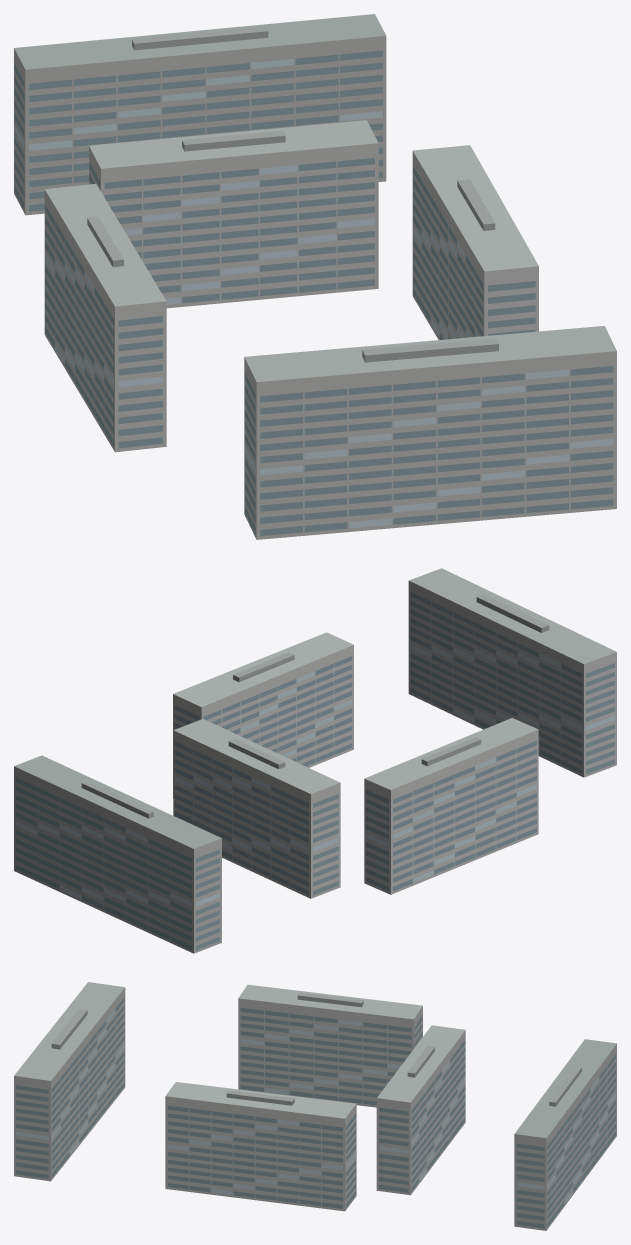
File: apt-a13590204.glb
3 views of the same model, one above another, from view 1: azimuth 30°, elevation 25°; view 2: azimuth 150°, elevation 25°; view 3: azimuth 270°, elevation 25° (orthographic). The views are drawn at different scales.
Parts seen in each view (by area): view 1: apt-a13590204; view 2: apt-a13590204; view 3: apt-a13590204.
Part boxes in pixels (bbox=[...]): apt-a13590204: bbox=[14, 14, 616, 539]; apt-a13590204: bbox=[14, 568, 616, 953]; apt-a13590204: bbox=[14, 982, 616, 1230].
Size of the model in its own units: 130 by 41.43 by 216.
